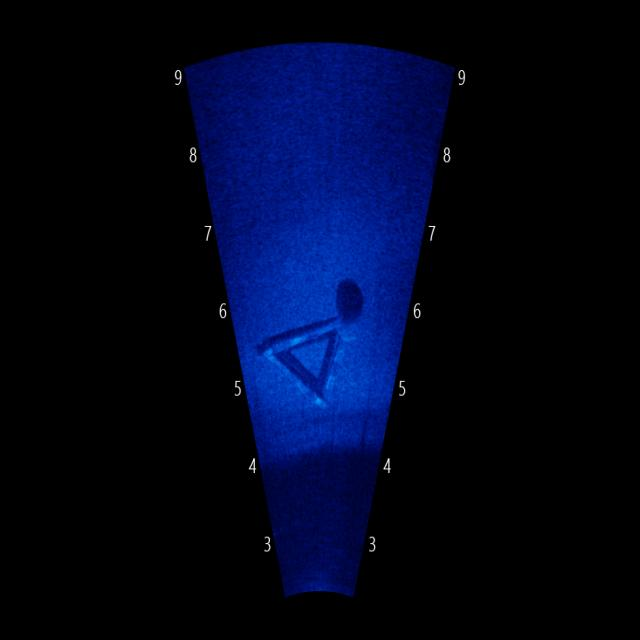triangle: (252, 301, 358, 417)
